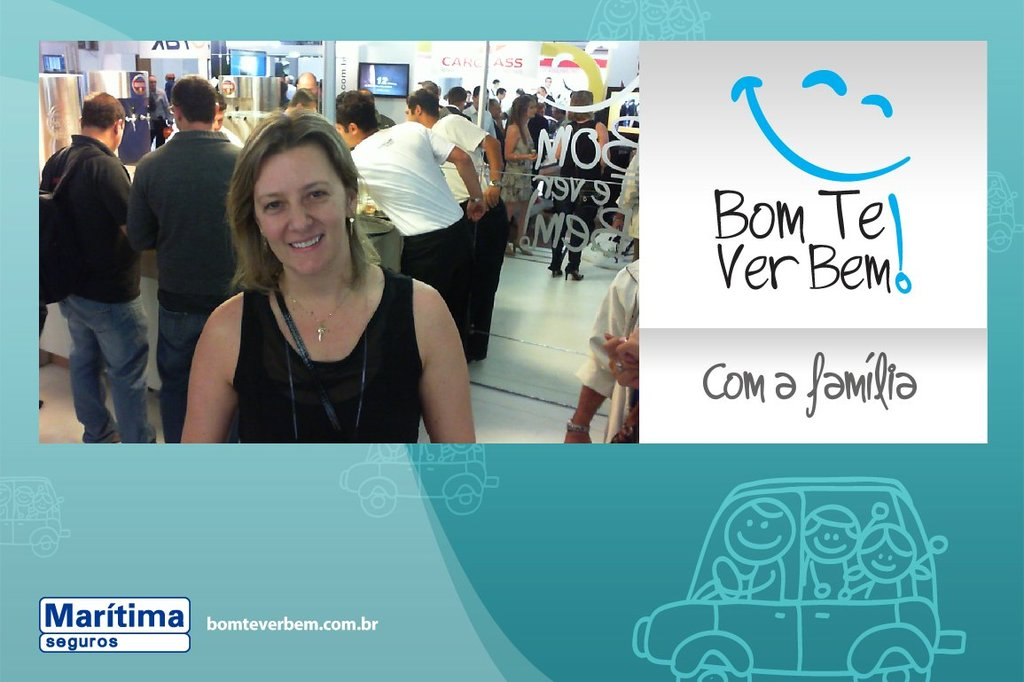Footwear: (512, 244, 538, 253), (567, 269, 582, 282), (550, 266, 560, 278)
